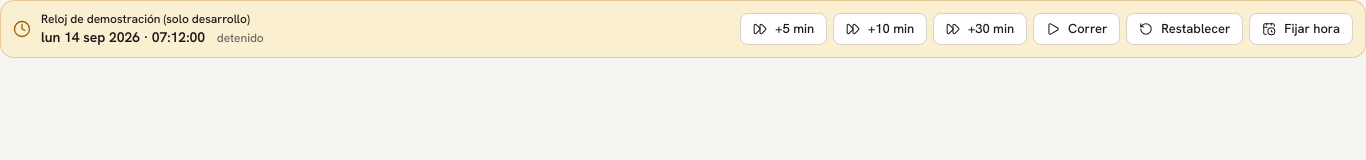
Scenario: RelojDemo › Correr echa a andar el reloj, cambia a Pausar, deja de anunciar cada segundo y Pausar lo detiene
Expected: the element showing "lun 14 sep 2026 · 07:12:00 detenido" is shown, left=41, top=27, right=264, bottom=47
Click the button "Correr" at (1077, 29), box left=1033, top=13, right=1120, bottom=45
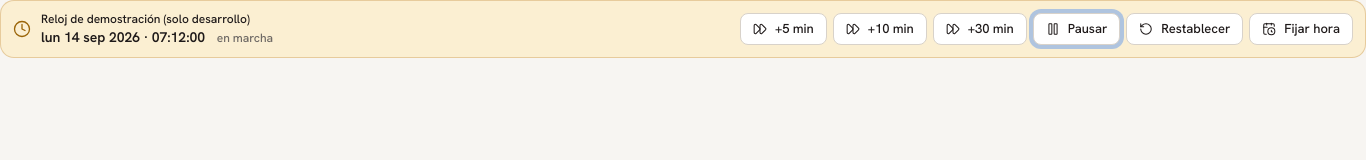
Expected: the element showing "lun 14 sep 2026 · 07:12:00 en marcha" is shown, left=41, top=27, right=273, bottom=47
Click the button "Pausar" at (1076, 29), box left=1033, top=13, right=1120, bottom=45
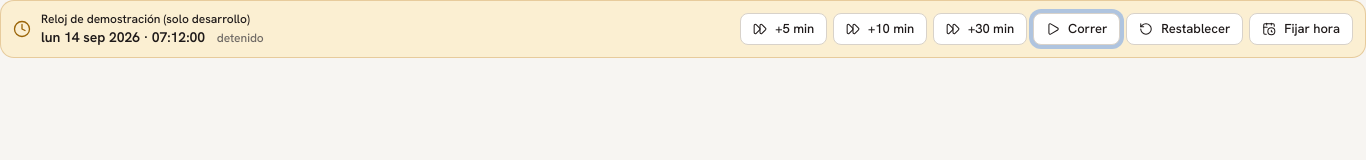
Expected: the button "Correr" is shown, left=1033, top=13, right=1120, bottom=45
